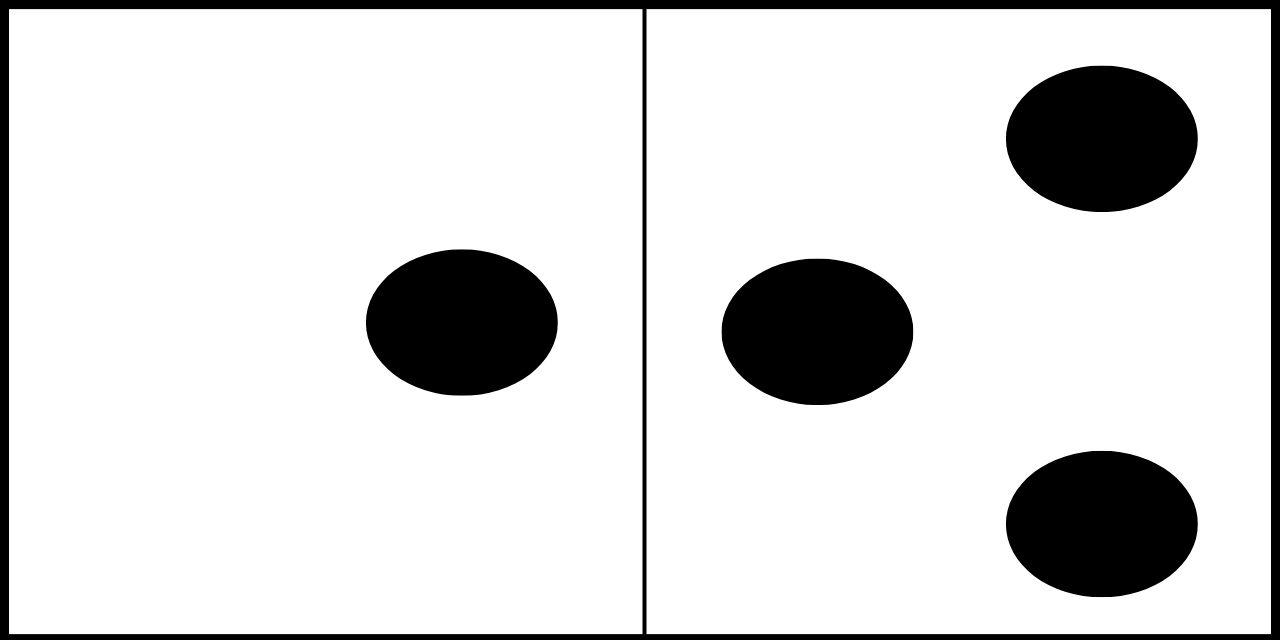dot_5: (93, 60, 560, 597)
two_cell_non_alphabet_wakas: (719, 62, 1202, 600)
